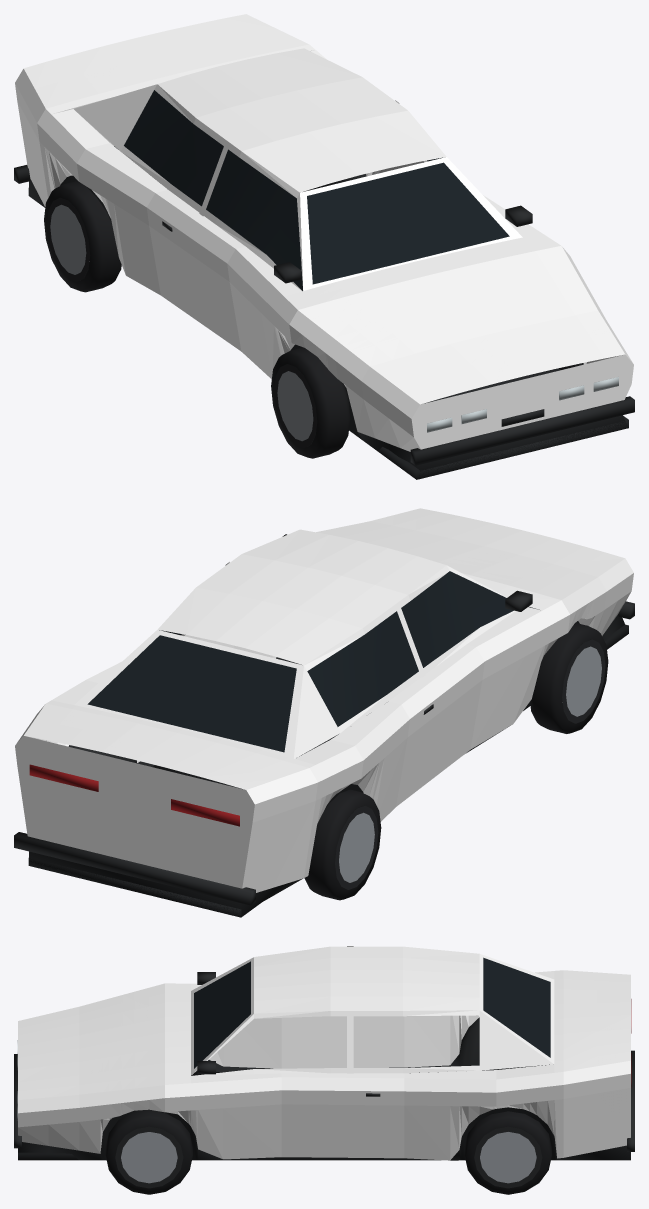
File: ishigumo_dique.glb
3 renders of one model, top to bottom at view 1: azimuth 30°, elevation 25°; view 2: azimuth 150°, elevation 25°; view 3: azimuth 270°, elevation 25°, orthographic. The views are drawn at different scales.
Parts seen in each view (by area): view 1: Body_Paint, Body_Details, Mount_FrontLeft_Wheel_Details, Mount_RearLeft_Wheel_Details; view 2: Body_Paint, Body_Details, Mount_FrontLeft_Wheel_Details, Mount_RearLeft_Wheel_Details; view 3: Body_Paint, Body_Details, Mount_FrontRight_Wheel_Details, Mount_RearRight_Wheel_Details.
Boxes of the visible parts, <box> form: Body_Paint: <box>15,14,633,451</box>; Body_Details: <box>14,90,634,479</box>; Mount_FrontLeft_Wheel_Details: <box>271,347,350,458</box>; Mount_RearLeft_Wheel_Details: <box>44,181,121,292</box>; Body_Paint: <box>15,508,633,892</box>; Body_Details: <box>14,534,634,917</box>; Mount_FrontLeft_Wheel_Details: <box>530,623,608,733</box>; Mount_RearLeft_Wheel_Details: <box>304,789,381,900</box>; Body_Paint: <box>18,946,630,1160</box>; Body_Details: <box>14,957,634,1160</box>; Mount_FrontRight_Wheel_Details: <box>105,1109,192,1194</box>; Mount_RearRight_Wheel_Details: <box>464,1111,551,1194</box>.
Size of the model in its own units: 1.83 by 1.27 by 4.32.
Materials: 2 (1 with a texture image).
